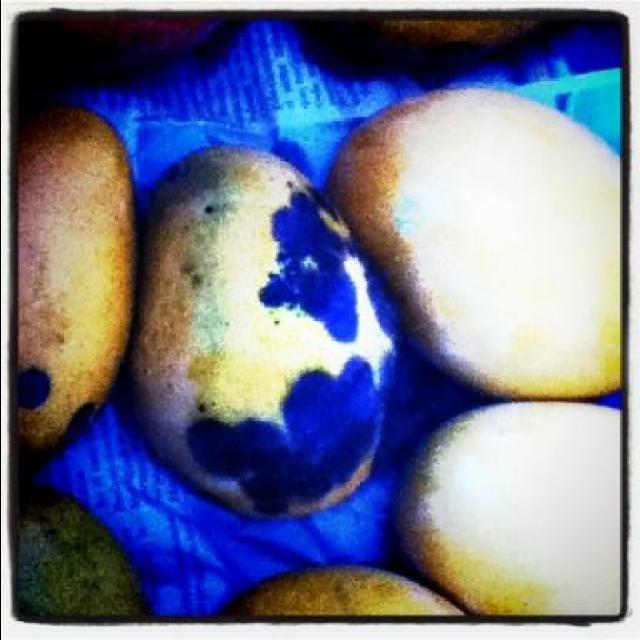Potato: (115, 174, 398, 497)
